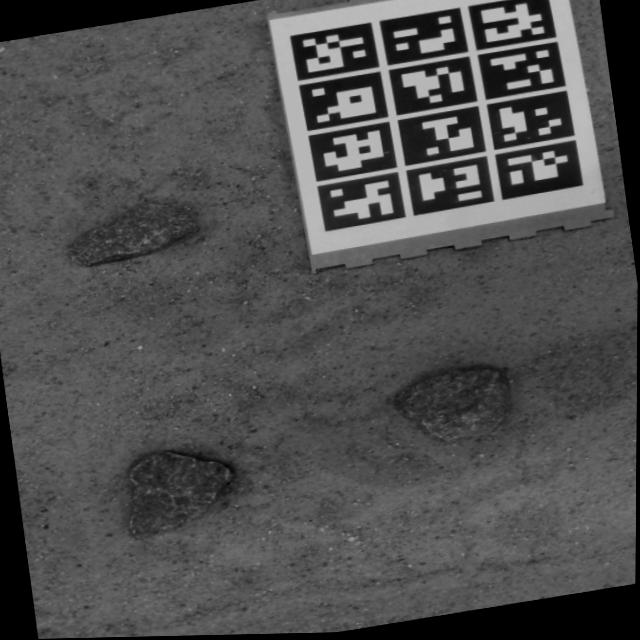rock: (129, 453, 233, 542), (395, 372, 510, 445), (65, 205, 195, 267)
